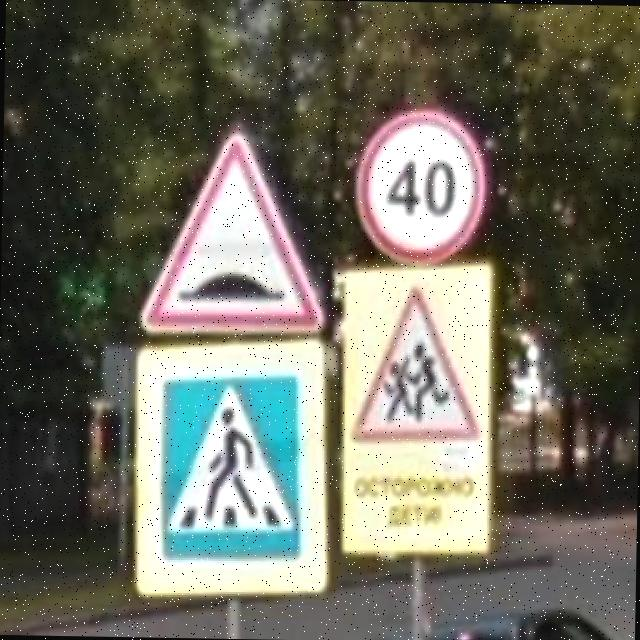Ograniczenie predkosci do 40: (350, 110, 488, 266)
